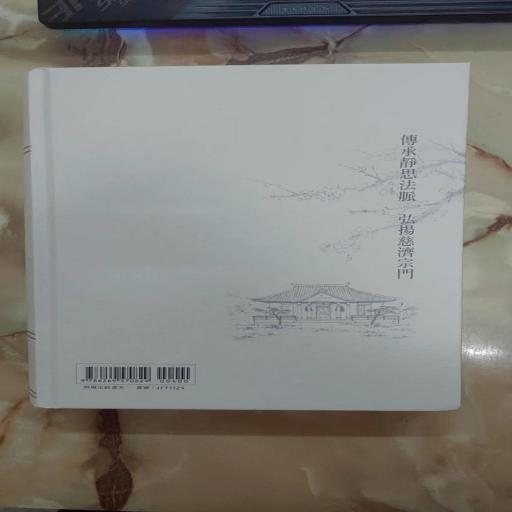paper: (29, 62, 462, 406)
